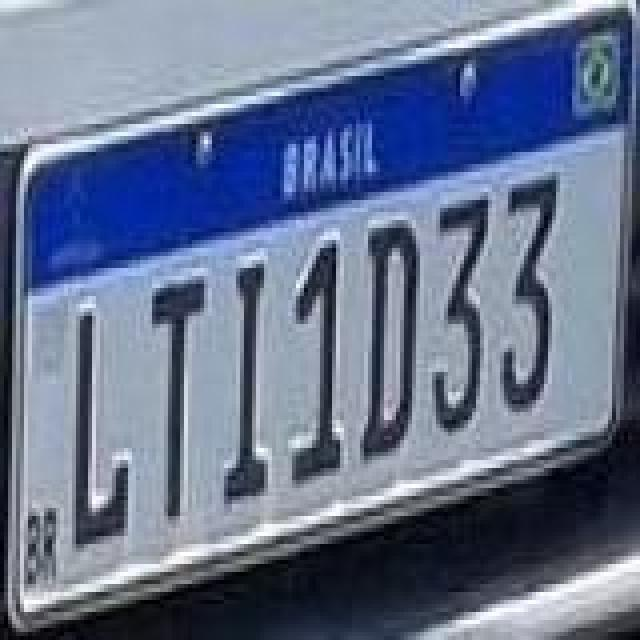1: (290, 232, 342, 488)
3: (498, 176, 558, 416), (436, 192, 492, 432)
D: (364, 220, 420, 460)
I: (226, 264, 270, 504)
L: (72, 308, 128, 556)
T: (148, 272, 204, 520)
